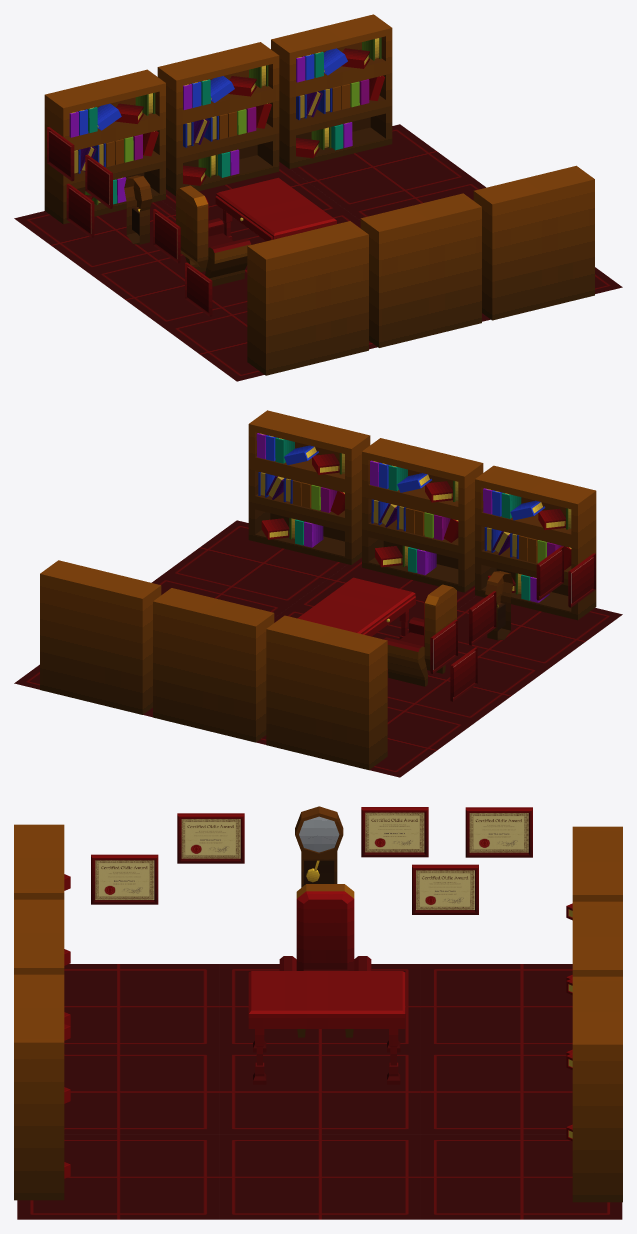
Rendered from s1_Library_v1.fbx.
The picture shows the model from 3 angles, top to bottom: view 1: azimuth 30°, elevation 25°; view 2: azimuth 150°, elevation 25°; view 3: azimuth 270°, elevation 25°; orthographic projection. The views are drawn at different scales.
Visible parts, largest first — view 1: s1_Library_v1; view 2: s1_Library_v1; view 3: s1_Library_v1.
Part boxes in pixels (left/top/right/bottom): s1_Library_v1: left=14, top=14, right=622, bottom=381; s1_Library_v1: left=14, top=410, right=622, bottom=777; s1_Library_v1: left=14, top=806, right=622, bottom=1219.
Size of the model in its own units: 900 by 267 by 906.
